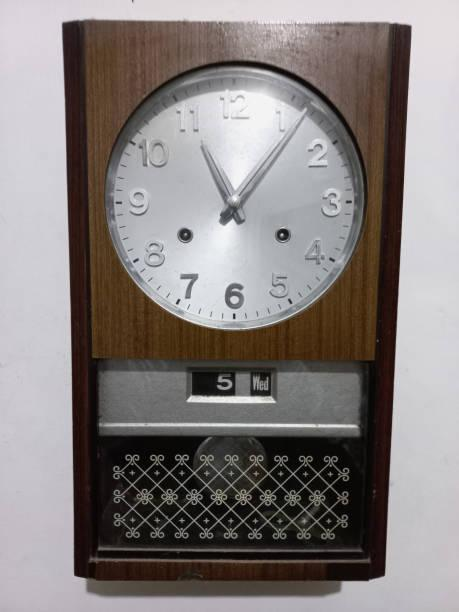clock: (108, 71, 366, 341)
